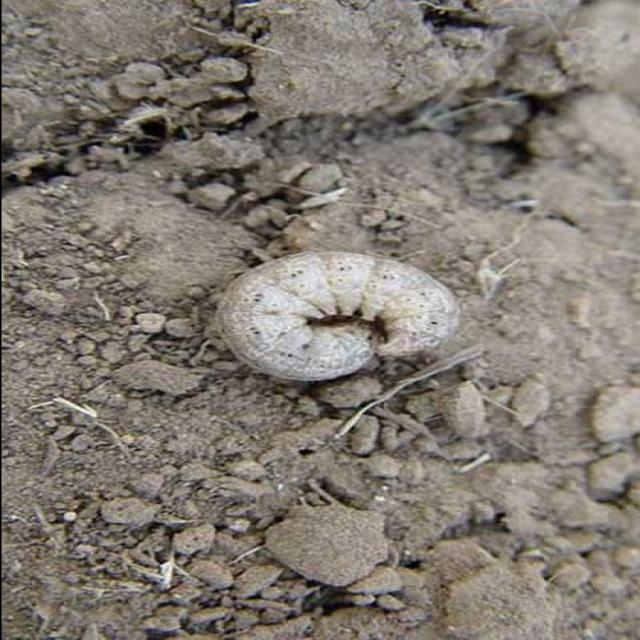black cutworm: (212, 247, 474, 395)
